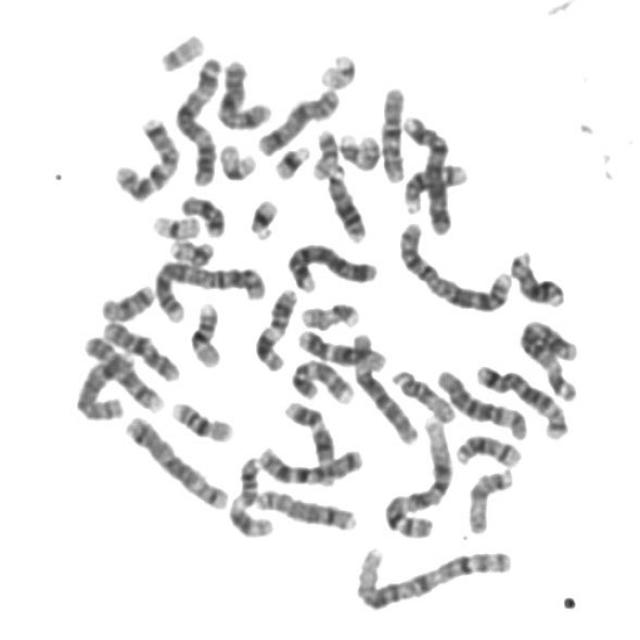A1: (348, 538, 514, 612), (378, 409, 456, 539)
A2: (393, 214, 515, 314), (146, 253, 268, 324)
A3: (168, 49, 225, 187), (513, 311, 583, 404)
B4: (396, 107, 456, 236), (281, 234, 381, 292)
B5: (118, 408, 230, 511), (468, 356, 570, 442)
C10: (96, 312, 181, 383), (374, 78, 409, 185)
C11: (248, 281, 300, 373), (224, 448, 276, 539)
C12: (279, 392, 339, 478), (292, 322, 388, 372)
C6: (346, 325, 421, 446), (432, 362, 532, 442)
C7: (108, 109, 182, 203), (252, 439, 366, 487)
C8: (250, 481, 360, 533), (68, 342, 137, 422)
C9: (77, 328, 167, 414), (285, 352, 357, 405)
D13: (504, 243, 568, 309), (321, 159, 369, 244)
D14: (398, 156, 471, 215), (449, 426, 525, 468)
D15: (385, 361, 457, 425), (462, 461, 516, 536)
E16: (165, 392, 236, 443), (183, 295, 224, 369)
E17: (295, 295, 362, 331), (333, 125, 383, 172)
E18: (94, 276, 158, 323), (174, 187, 227, 238)
F19: (213, 136, 259, 182), (145, 206, 202, 242)
F20: (307, 122, 342, 181), (164, 232, 216, 268)
G21: (243, 190, 281, 242), (268, 137, 312, 181)
G22: (153, 26, 207, 73), (314, 45, 359, 91)
X: (252, 80, 342, 158), (212, 51, 274, 133)
